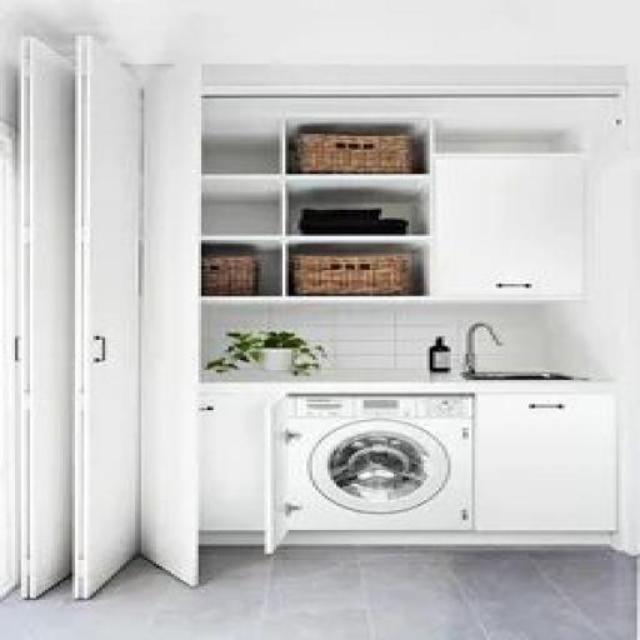Washing-Machine: (290, 390, 472, 522)
